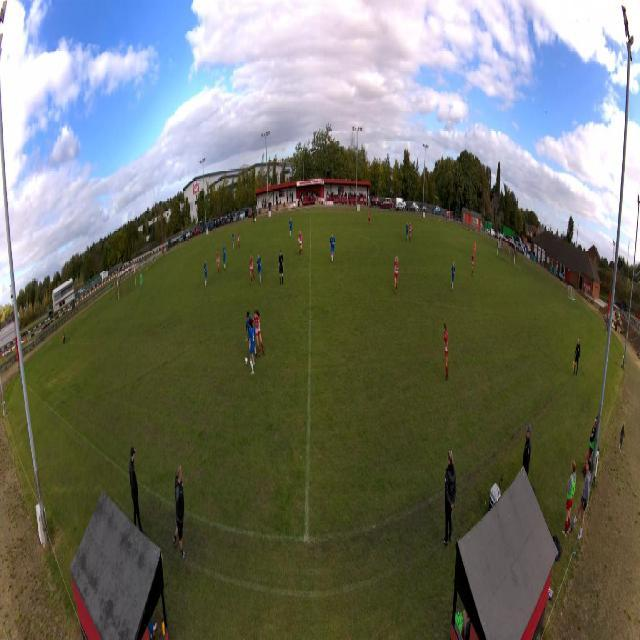ball: (244, 358, 248, 366)
player: (244, 318, 255, 376), (254, 309, 266, 360), (245, 310, 255, 368), (443, 323, 449, 380), (278, 249, 284, 287), (256, 253, 262, 288), (249, 253, 255, 287), (330, 230, 336, 264), (394, 256, 399, 295), (451, 260, 456, 292), (298, 229, 303, 255), (204, 258, 208, 289), (222, 243, 226, 270), (216, 249, 220, 276), (471, 252, 475, 278), (289, 218, 293, 239), (405, 221, 409, 241), (237, 230, 241, 249), (367, 211, 371, 228), (409, 221, 412, 242), (231, 231, 234, 251), (140, 272, 143, 290), (474, 240, 476, 259)
